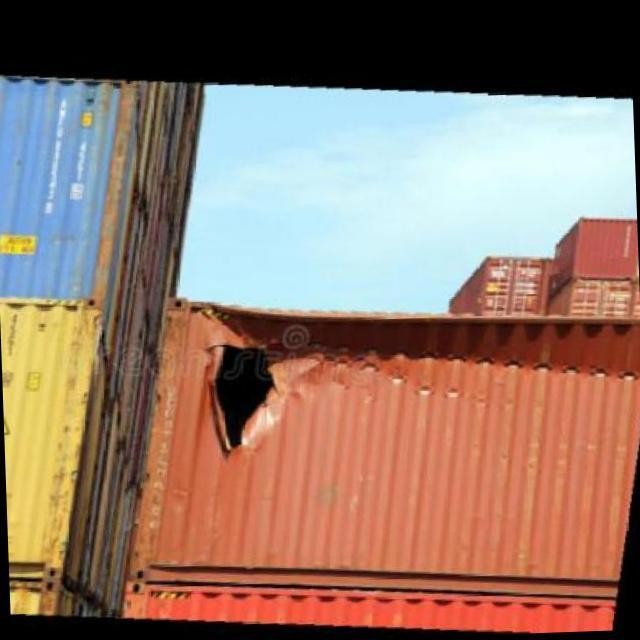hole: (170, 305, 355, 459)
